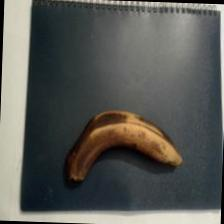Banana Rotten: (57, 104, 182, 184)
